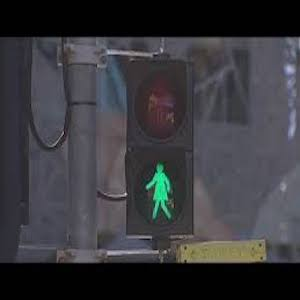green: (142, 161, 173, 220)
